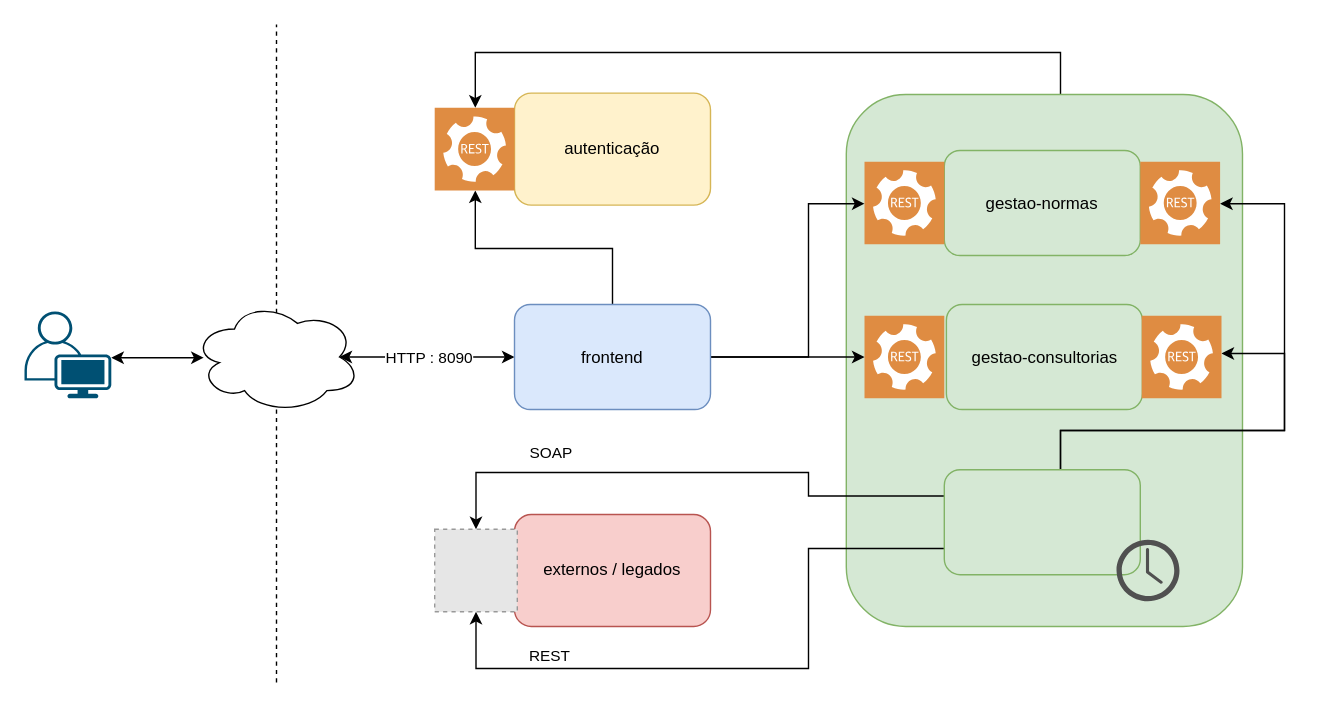
Some shapes in this 1320 by 708 pixel diagram are drawn without their labels. Grey dashed boxes stand in for pictures. Each missing label, with the centre of its shape:
gestao-processos: the point at 1041,521
Internet: the point at 275,356
